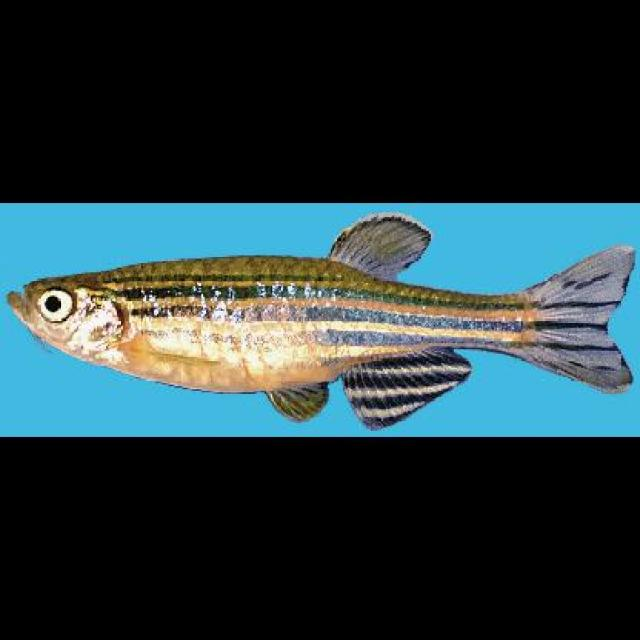ZebraFish: (6, 218, 634, 416)
